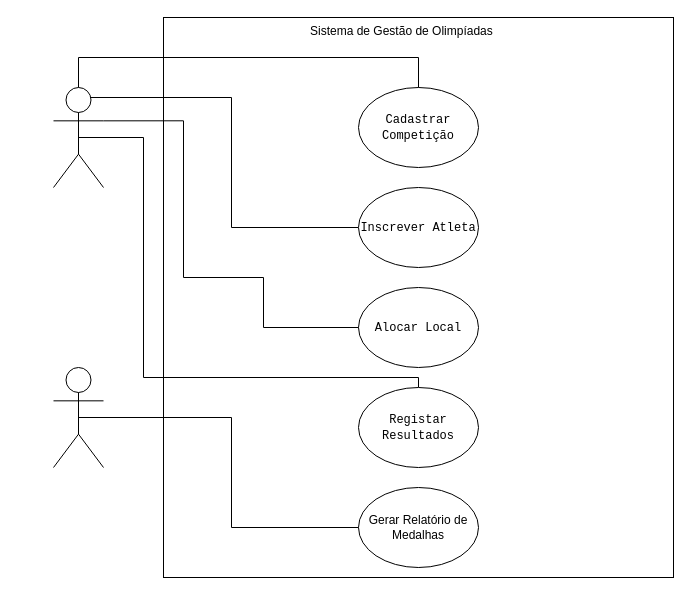
Image size: 691x595. Some labels were removed from this diagram. Here are the shapes that lost their labels. From the top down, the centre of each, then its label:
At [78,137]: "Organizador do Evento".
At [78,417]: "Comitê Olímpico".
